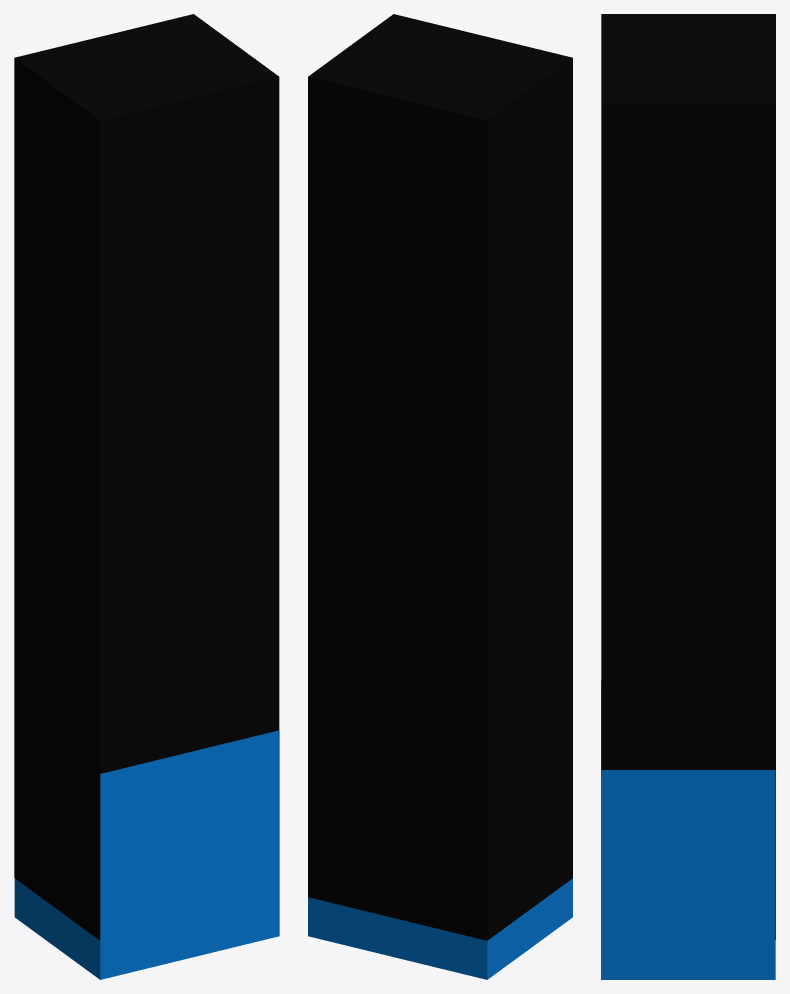
The model's file is graph.glb.
The picture shows the model from 3 angles, left to right: view 1: azimuth 30°, elevation 25°; view 2: azimuth 150°, elevation 25°; view 3: azimuth 270°, elevation 25°; orthographic projection. The views are drawn at different scales.
Visible parts, largest first — view 1: Cube, Cube.001; view 2: Cube, Cube.001; view 3: Cube, Cube.001.
Part boxes in pixels (bbox=[...]): Cube: bbox=[14, 14, 279, 940]; Cube.001: bbox=[14, 730, 279, 979]; Cube: bbox=[308, 14, 572, 940]; Cube.001: bbox=[308, 878, 572, 979]; Cube: bbox=[601, 14, 775, 939]; Cube.001: bbox=[601, 681, 775, 979].
Bounding box in the file's own units: 0.7333 × 3.36 × 0.6074.
